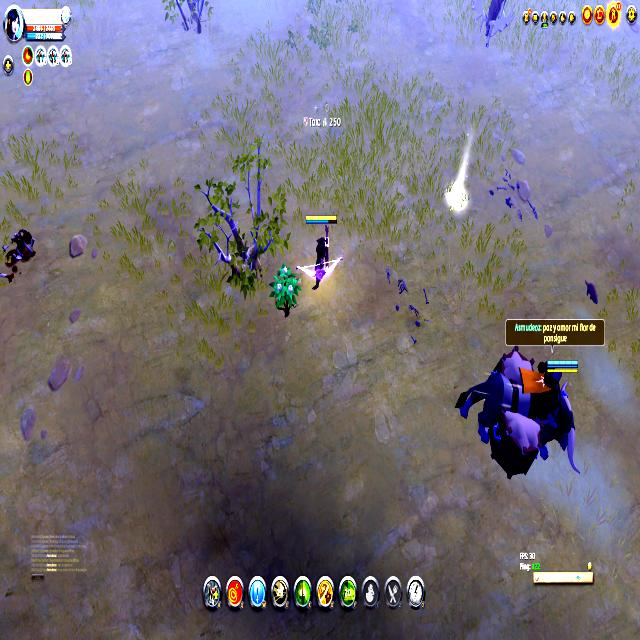hide: (270, 262, 300, 317)
ore: (473, 0, 513, 46)
red: (459, 346, 590, 480), (304, 211, 341, 293)
stone: (446, 186, 465, 214)
